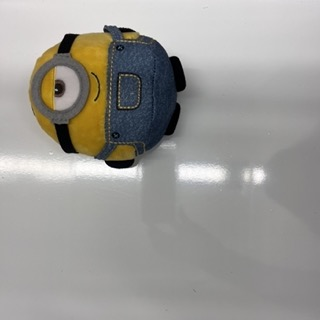minion: (26, 24, 186, 169)
